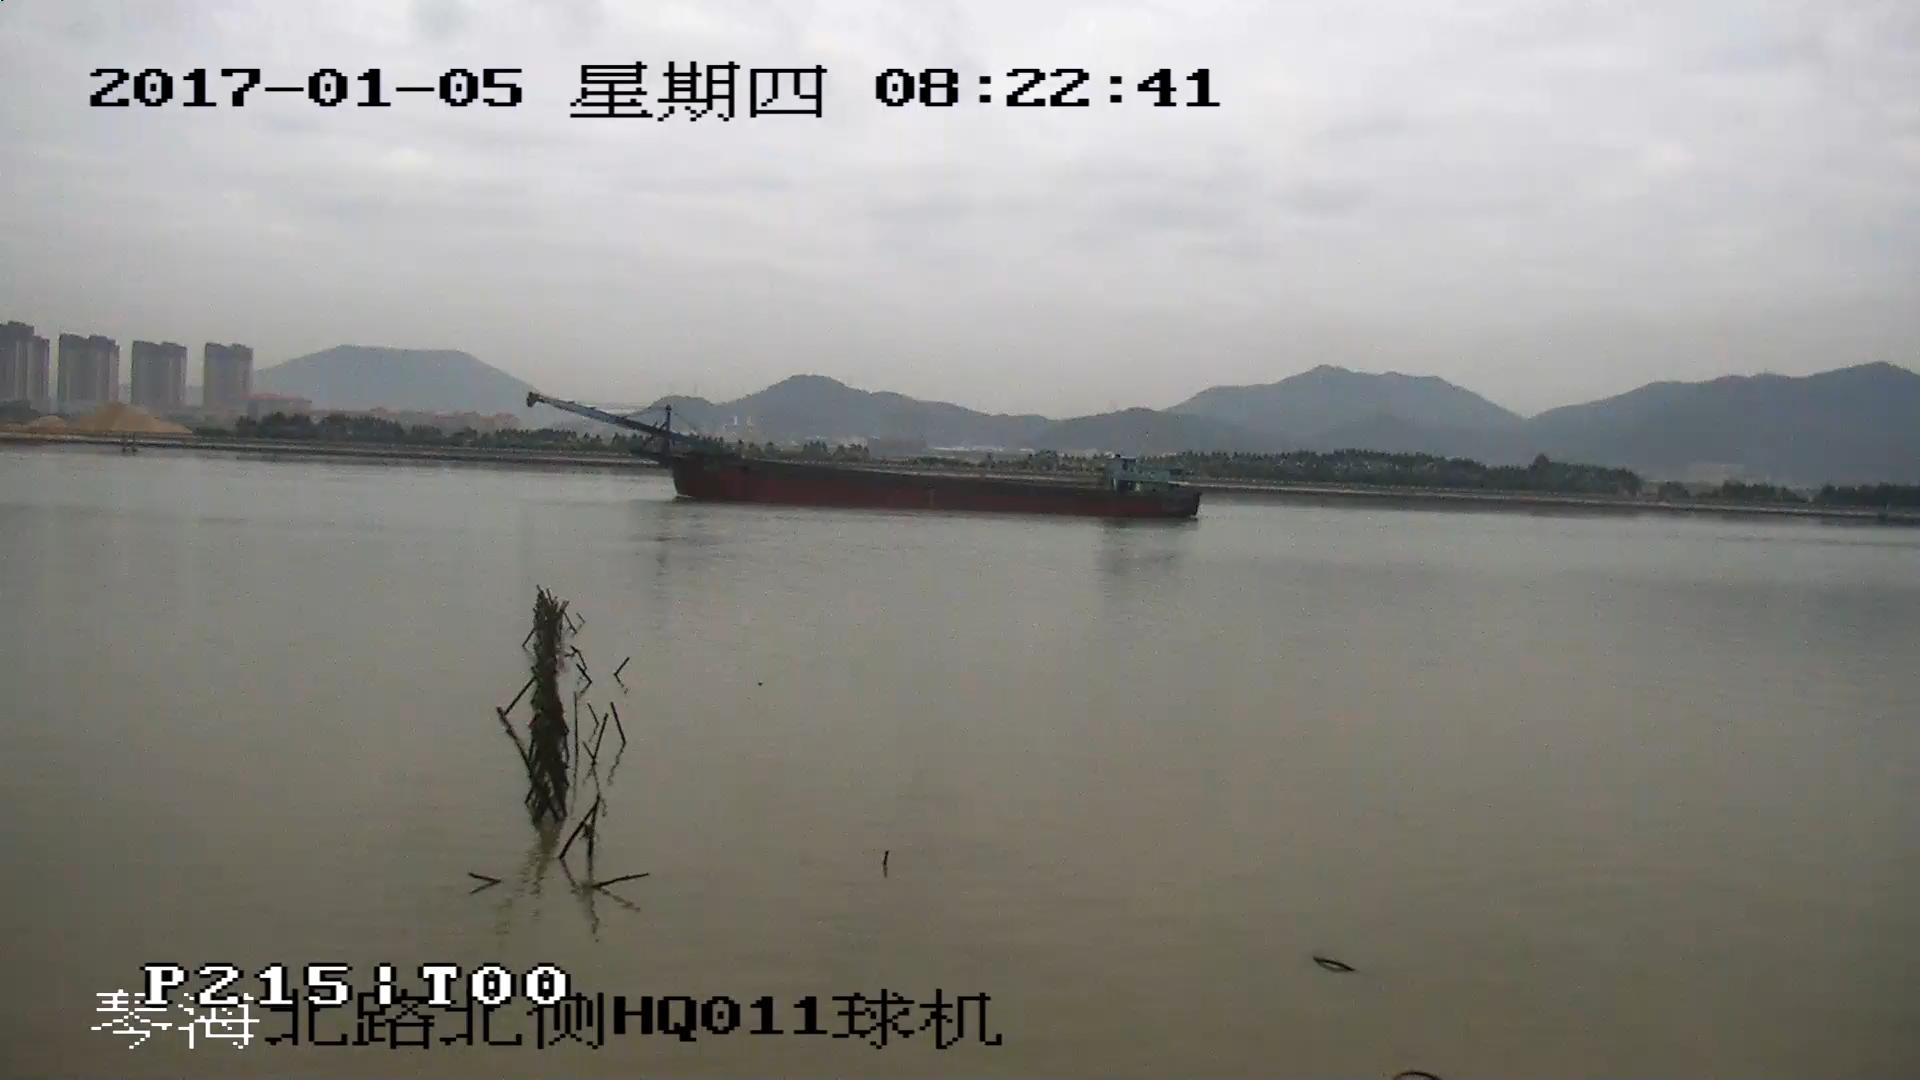bulk cargo carrier: (531, 392, 1194, 519)
